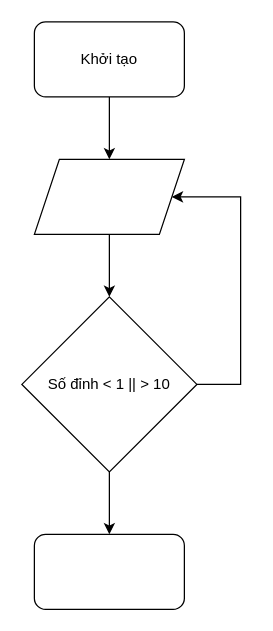
Some shapes in this 273 by 631 pixel diagram are drawn without their labels. The centre of each missing label's shape, as x and y in pixels:
Kết thúc: pixel 108 571
Nhập số đỉnh: pixel 108 196
